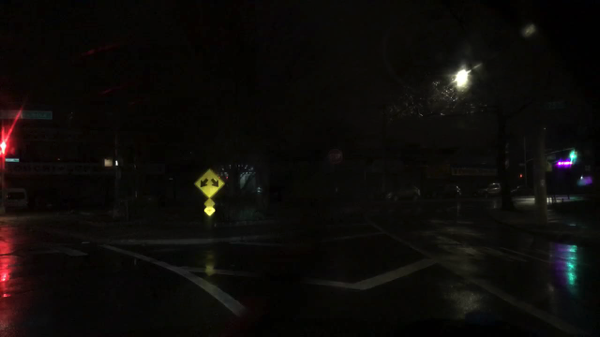car: (375, 183, 420, 202), (116, 188, 160, 207), (4, 188, 28, 211), (431, 184, 462, 199), (476, 181, 501, 198), (510, 185, 534, 197)
traffic light: (103, 158, 115, 169), (0, 140, 8, 156), (113, 158, 125, 167), (569, 150, 574, 163), (574, 149, 578, 163), (518, 171, 524, 179)
traffic sign: (193, 168, 225, 198), (0, 110, 52, 120), (327, 148, 343, 163), (204, 200, 214, 215), (547, 101, 564, 108), (5, 158, 20, 163), (545, 154, 555, 160), (517, 162, 527, 167)
